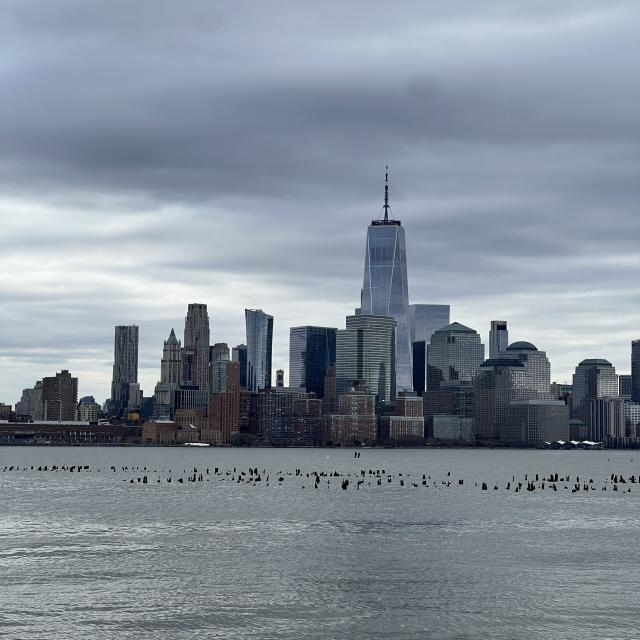WTC: (361, 163, 408, 313)
